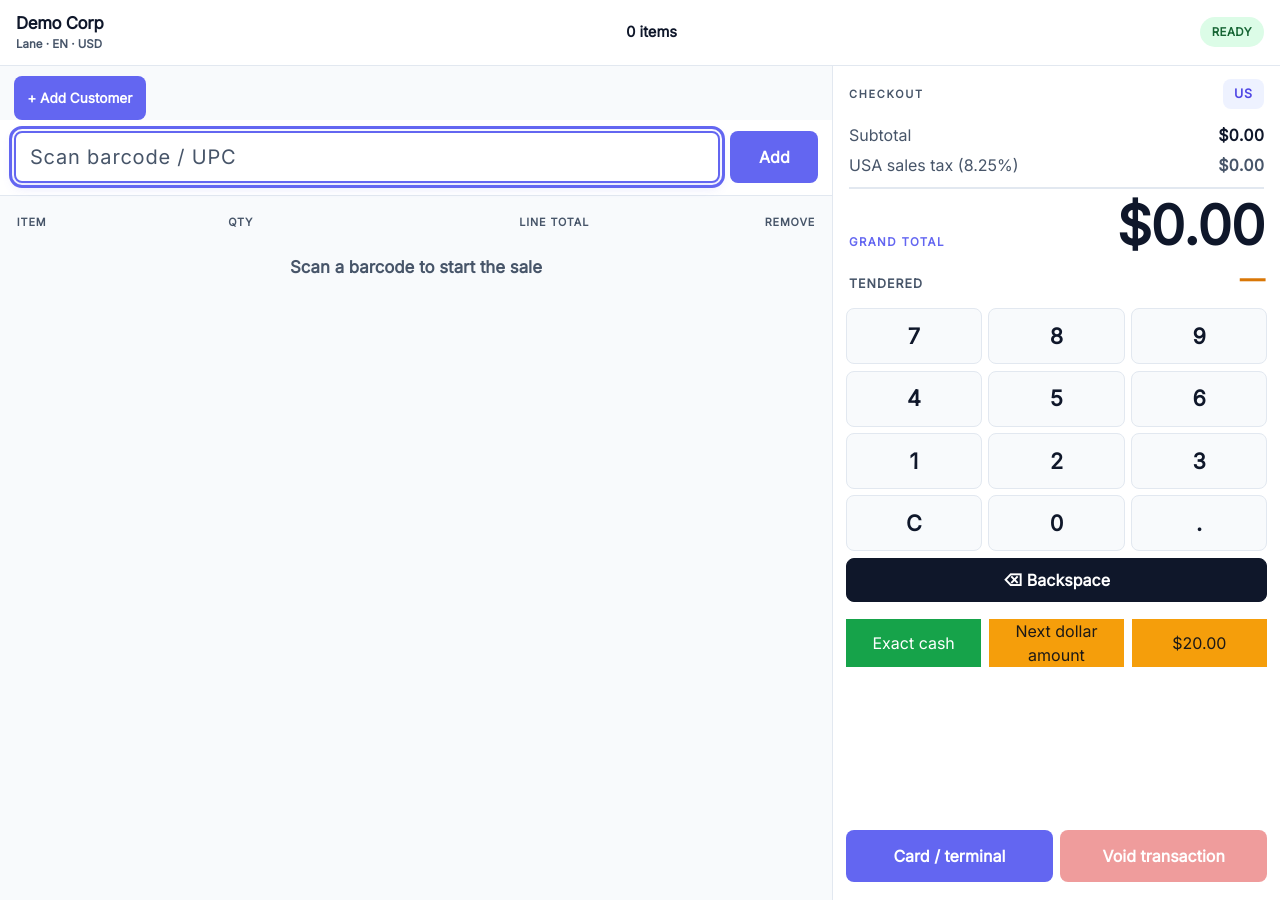
RegisterPage › shows an error for unknown UPCs and empty checkout
The width and height of the screenshot is (1280, 900).
Type "000" into the field with test id "pos-upc-search" at x=367, y=157, box [14, 131, 720, 183]
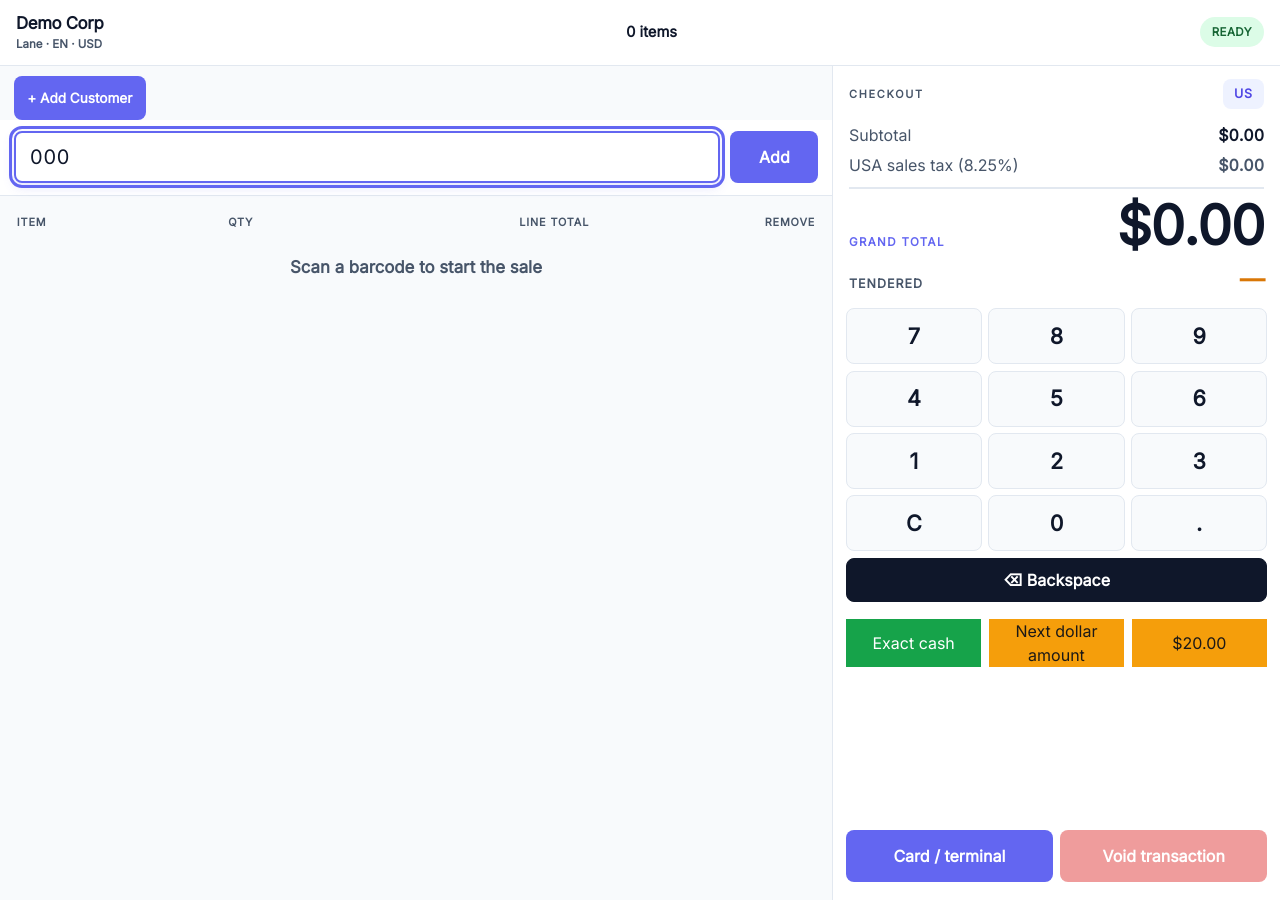
Click the button with test id "pos-upc-add" at x=774, y=157, box [730, 131, 818, 183]
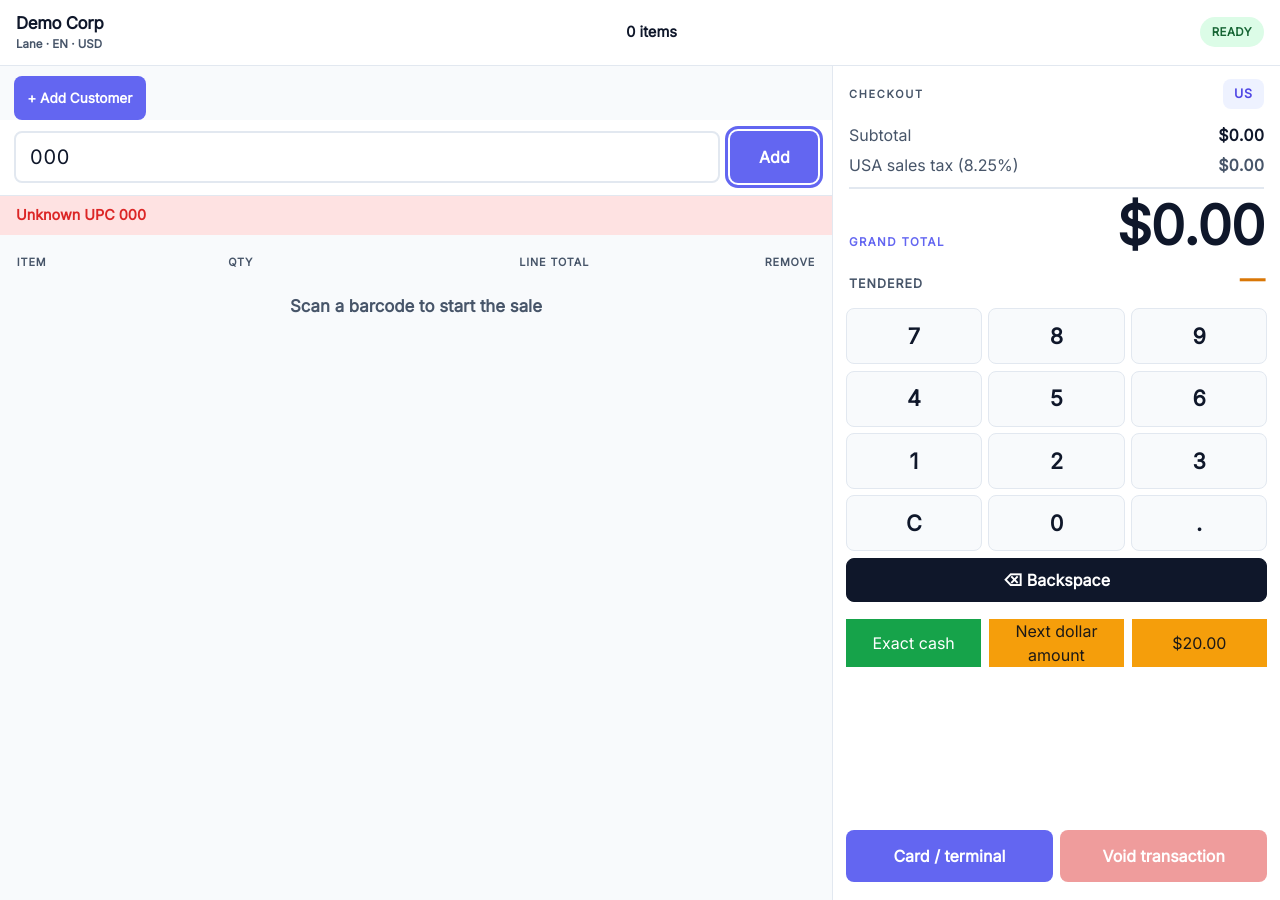
Check: the text with test id "pos-scan-error" shows "Unknown UPC", box [16, 206, 146, 223]
Click the button with test id "tender-20" at x=1199, y=643, box [1132, 619, 1267, 667]
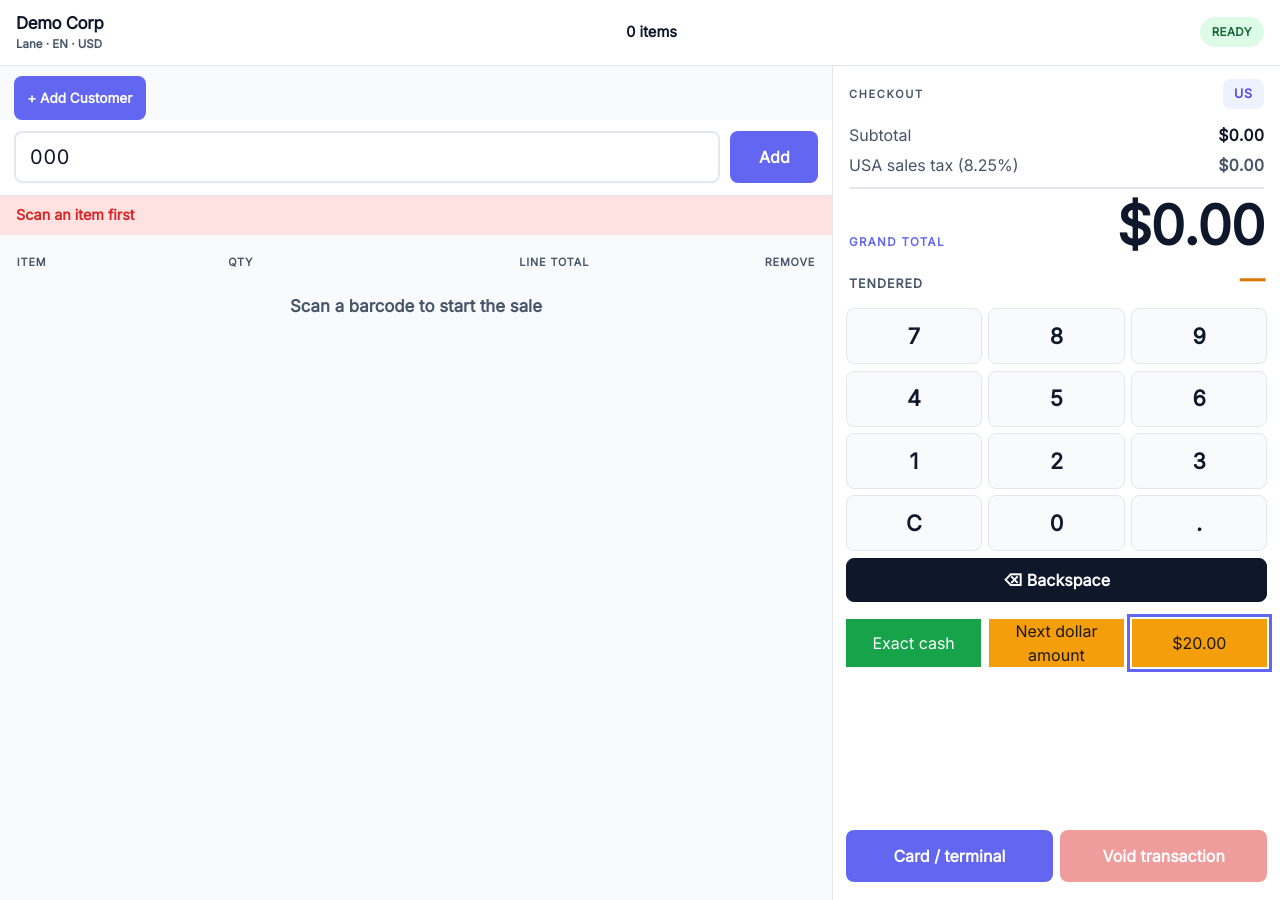
Check: the text with test id "pos-scan-error" reads "Scan an item first", box [16, 206, 134, 223]
